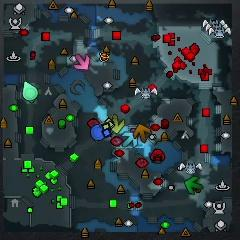p1: (91, 124, 106, 140)
p2: (23, 81, 38, 99)
x1: (75, 54, 90, 70)
x2: (109, 114, 125, 133)
x3: (123, 132, 138, 147)
x4: (184, 176, 203, 194)
x5: (133, 124, 151, 143)
